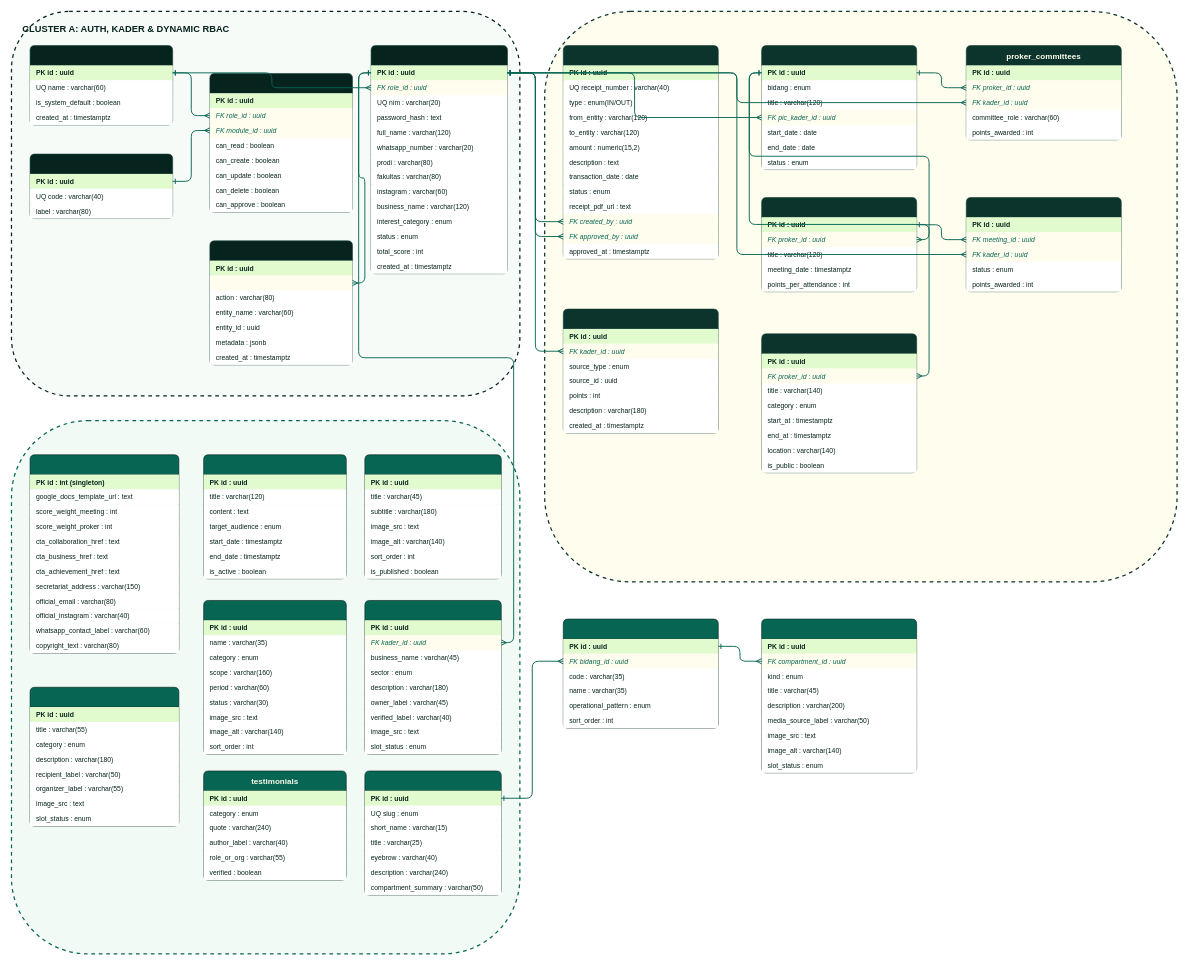
This 1188x965 diagram has some shape labels left out. Here are the shapes that lost their labels. From the top down, the box of each, then its label:
(29, 45, 173, 125): roles
(761, 45, 917, 170): prokers
(209, 73, 352, 212): role_permissions
(370, 45, 507, 274): kaders
(563, 45, 718, 259): transactions
(29, 153, 173, 219): modules
(761, 197, 917, 292): meetings
(966, 197, 1121, 292): meeting_attendances
(209, 240, 352, 365): audit_logs
(210, 275, 352, 290): FK actor_kader_id : uuid
(544, 11, 1177, 582): CLUSTER B: ERP OPERATIONAL (KEUANGAN, TRACKING & CALENDAR)
(563, 308, 718, 433): score_ledgers
(761, 333, 917, 473): calendar_events
(203, 454, 346, 579): announcements
(364, 454, 501, 579): hero_slides
(29, 454, 179, 653): site_settings
(11, 420, 520, 954): CLUSTER C: CMS WEB PROFIL & GLOBAL CONFIG
(203, 600, 346, 754): partners
(364, 600, 501, 754): kader_businesses
(563, 618, 718, 728): compartment_stages
(761, 618, 917, 773): program_slides
(29, 687, 179, 826): achievements
(364, 770, 501, 895): work_program_bidangs
